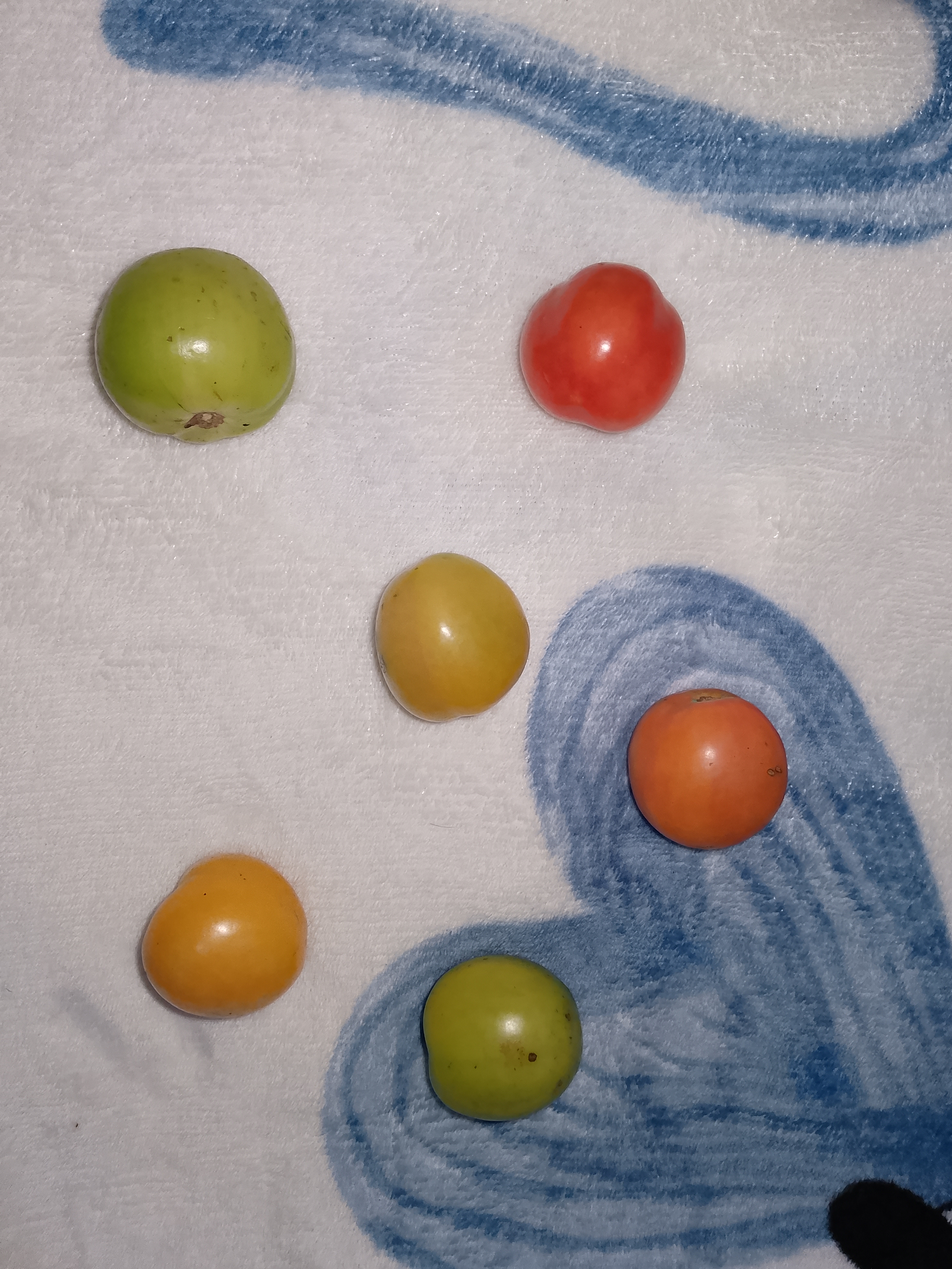Ripe: (615, 659, 831, 932), (514, 241, 703, 483), (104, 820, 319, 1028)
Unripe: (62, 205, 291, 480), (348, 514, 548, 784), (392, 942, 618, 1118)
